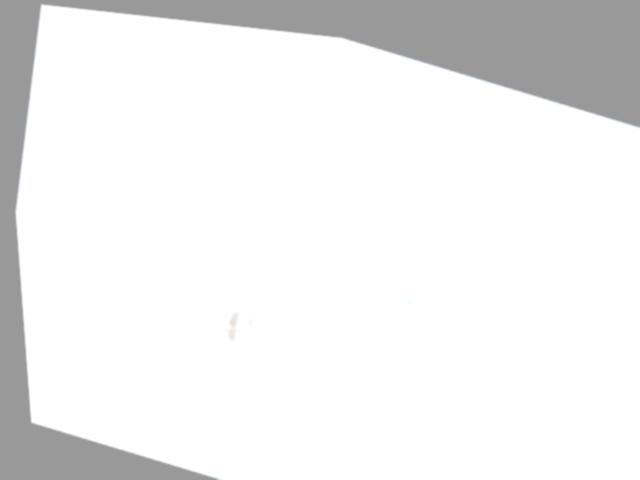uav: (210, 293, 255, 346)
